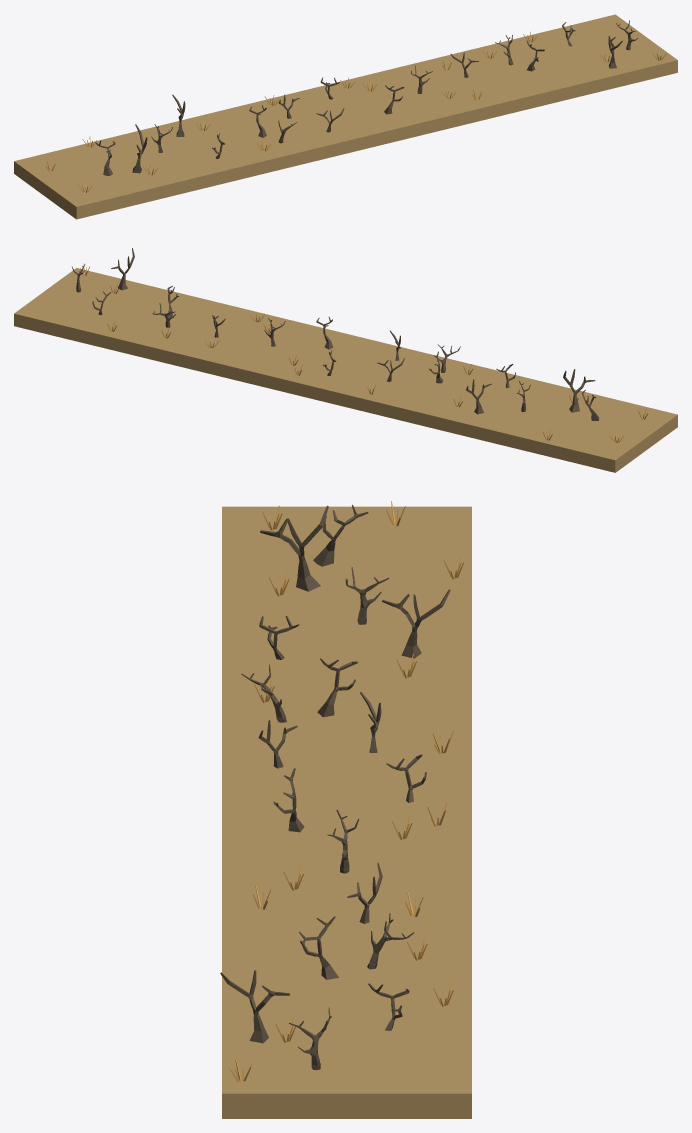
File: Fora-Desolação-1.glb
The picture shows the model from 3 angles, top to bottom: view 1: azimuth 30°, elevation 25°; view 2: azimuth 150°, elevation 25°; view 3: azimuth 270°, elevation 25°; orthographic projection. The views are drawn at different scales.
Visible parts, largest first — view 1: CHAOFORA.001; view 2: CHAOFORA.001; view 3: CHAOFORA.001, ARVORE.017, ARVORE.010, ARVORE.018.
Part boxes in pixels (box(x1,y1,x2,y2)): CHAOFORA.001: box(14, 14, 677, 219); CHAOFORA.001: box(14, 268, 677, 472); CHAOFORA.001: box(222, 506, 471, 1118); ARVORE.017: box(260, 505, 328, 591); ARVORE.010: box(220, 970, 289, 1043); ARVORE.018: box(382, 589, 450, 658).
Bounding box in the file's own units: 50 × 4.37 × 9.06.
